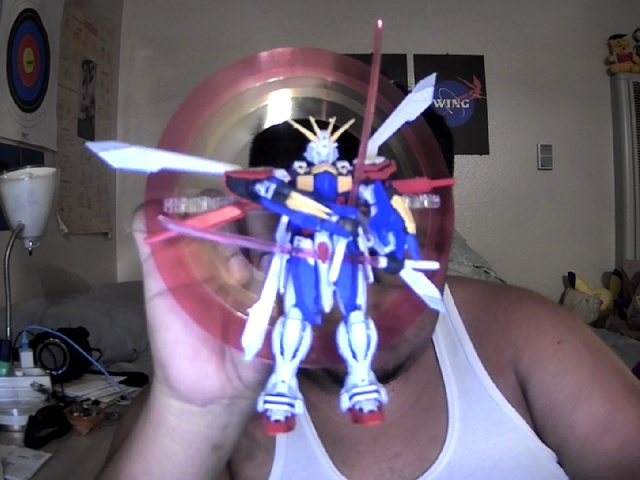God: (83, 45, 457, 437)
